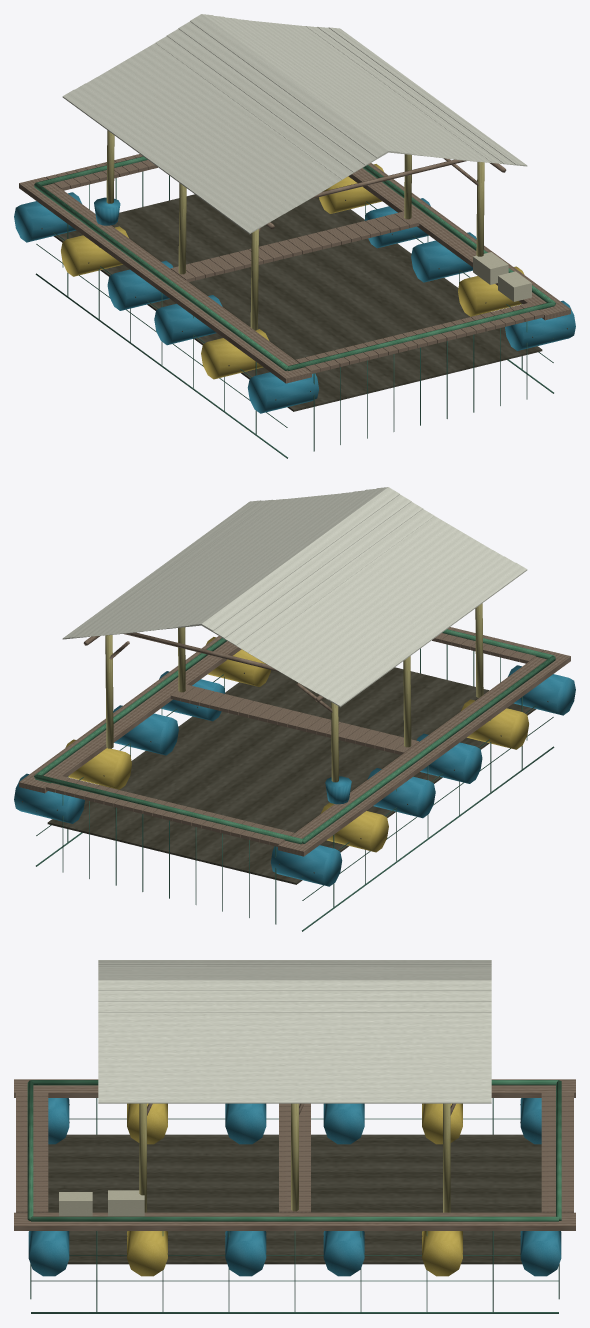
The model's file is bung-raft-2-white.glb.
The picture shows the model from 3 angles, top to bottom: view 1: azimuth 30°, elevation 25°; view 2: azimuth 150°, elevation 25°; view 3: azimuth 270°, elevation 25°; orthographic projection. The views are drawn at different scales.
Visible parts, largest first — view 1: bung-raft-2-white; view 2: bung-raft-2-white; view 3: bung-raft-2-white.
Part boxes in pixels (bbox=[...]): bung-raft-2-white: bbox=[14, 14, 575, 458]; bung-raft-2-white: bbox=[14, 487, 575, 931]; bung-raft-2-white: bbox=[14, 960, 575, 1313].
Size of the model in its own units: 5.34 by 4.17 by 8.
1 material, 1 textured.
